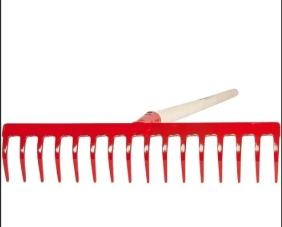RATEAU: (2, 3, 267, 227)
